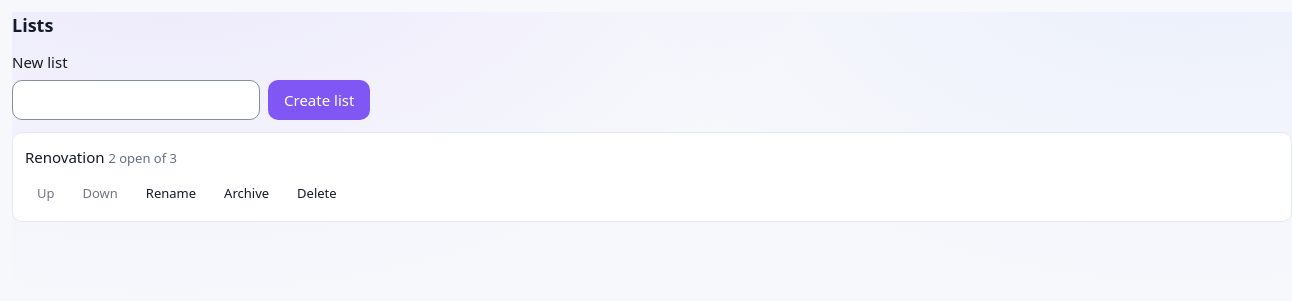
ManageLists › reports a refused archive with its count
The image size is (1292, 301).
Click the button with aria-label "Archive Renovation": coordinates (247, 193) [212,177,281,209]
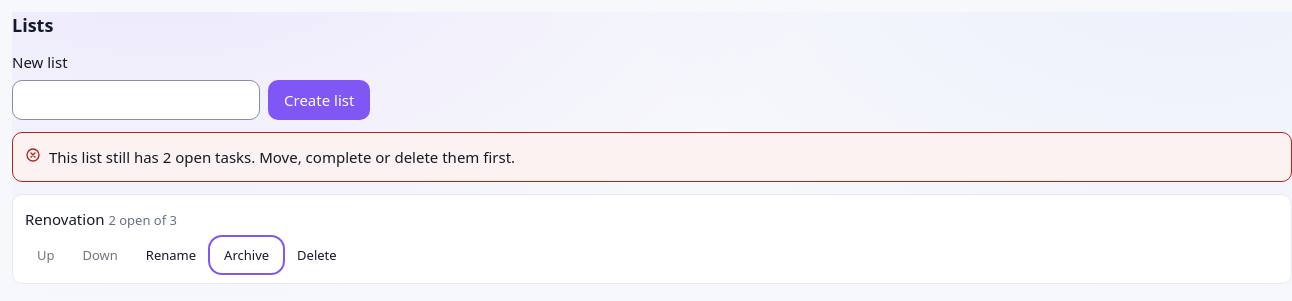
Check: the message shows "This list still has 2 open tasks.", box [49,147,515,167]
